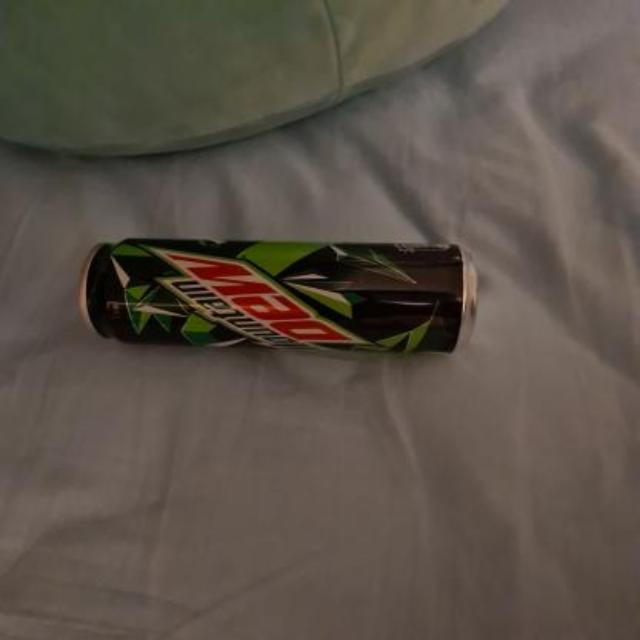metal: (78, 237, 472, 349)
